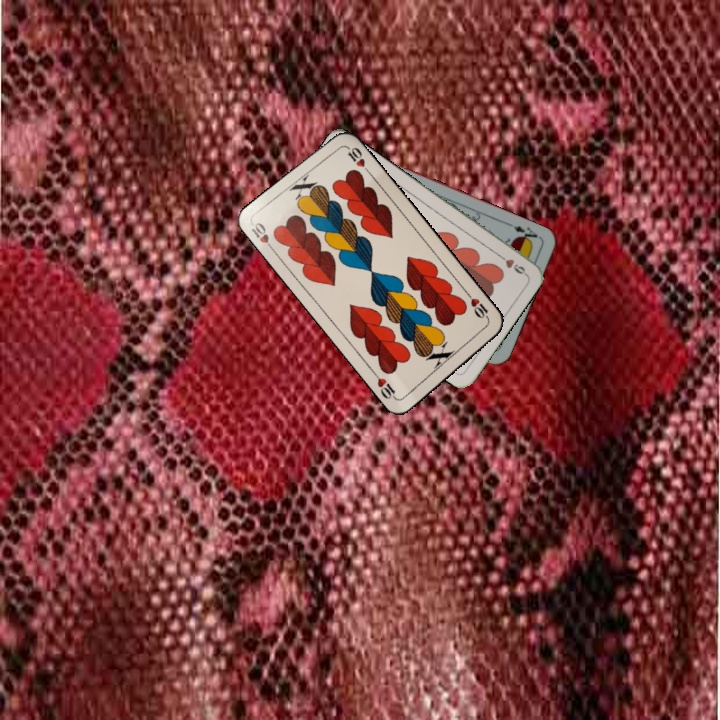EA: (505, 219, 540, 246)
H10: (247, 218, 278, 255), (463, 289, 492, 324)
H9: (493, 250, 529, 278)
